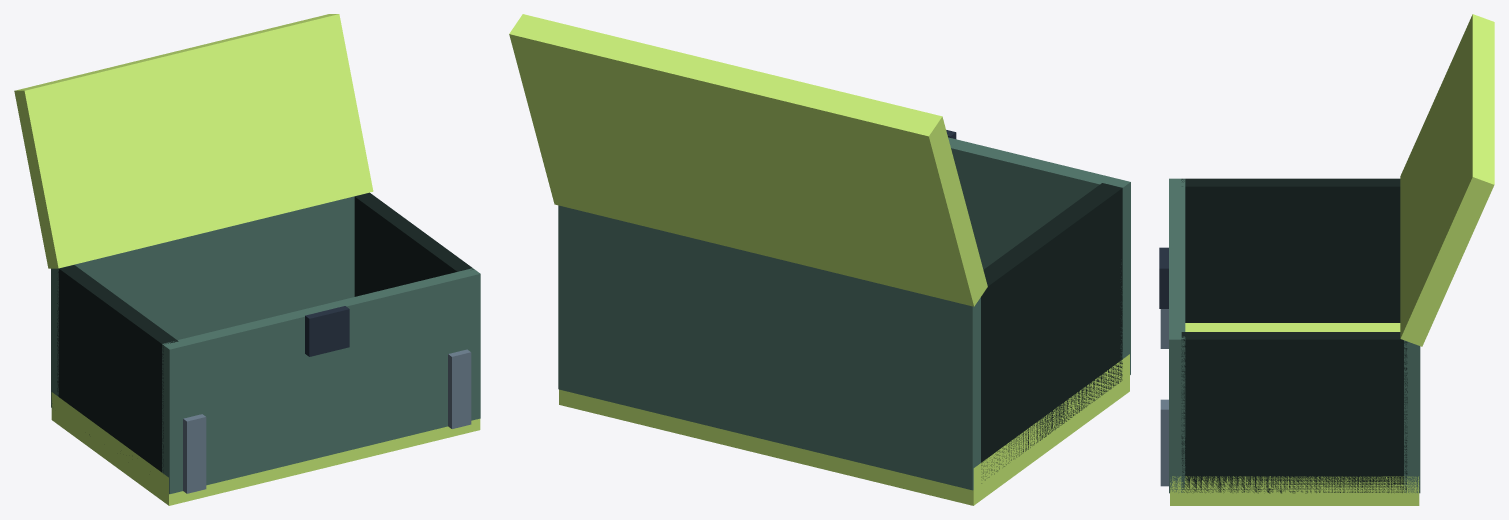
The picture shows the model from 3 angles, left to right: view 1: azimuth 30°, elevation 25°; view 2: azimuth 150°, elevation 25°; view 3: azimuth 270°, elevation 25°; orthographic projection. The views are drawn at different scales.
Visible parts, largest first — view 1: raised lid, panel 0.5, panel -0.5, end panel -0.77, floor, end panel 0.77, clasp, corner 0.69, corner -0.69; view 2: raised lid, panel -0.5, end panel -0.77, floor, panel 0.5; view 3: end panel 0.77, end panel -0.77, raised lid, floor, panel 0.5, panel -0.5, corner 0.69, clasp.
Boxes of the visible parts, x1,y1,x2,y2 form: raised lid: (14,14,373,268); panel 0.5: (162,268,480,494); panel -0.5: (51,195,356,407); end panel -0.77: (57,265,178,472); floor: (51,392,480,505); end panel 0.77: (354,192,473,296); clasp: (305,306,349,356); corner 0.69: (448,349,471,428); corner -0.69: (183,414,206,493); raised lid: (509,14,987,306); panel -0.5: (558,205,980,490); end panel -0.77: (981,183,1122,483); floor: (559,354,1129,505); panel 0.5: (948,137,1130,377); end panel 0.77: (1181,332,1407,493); end panel -0.77: (1181,178,1400,322); raised lid: (1400,14,1494,346); floor: (1170,323,1419,505); panel 0.5: (1169,178,1185,493); panel -0.5: (1404,340,1420,493); corner 0.69: (1160,399,1168,486); clasp: (1159,247,1168,308).
Size of the model in its own units: 1.64 by 1.55 by 1.42.
